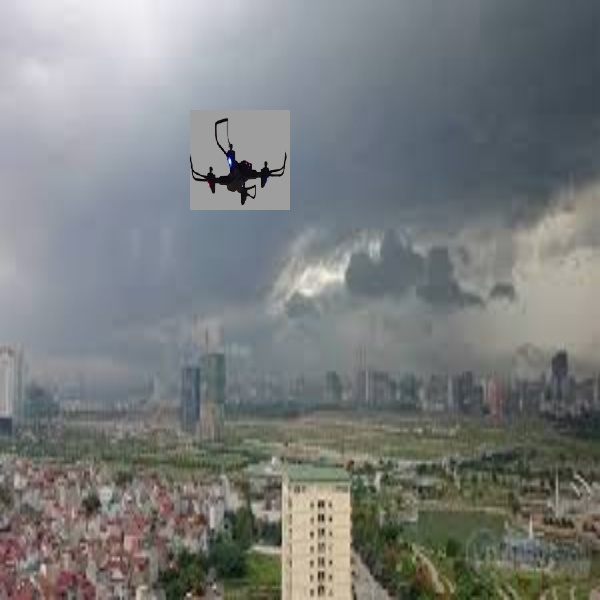drone: (184, 108, 289, 206)
